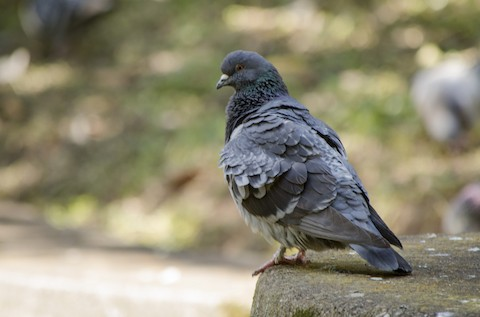pigeon: (215, 47, 416, 280)
